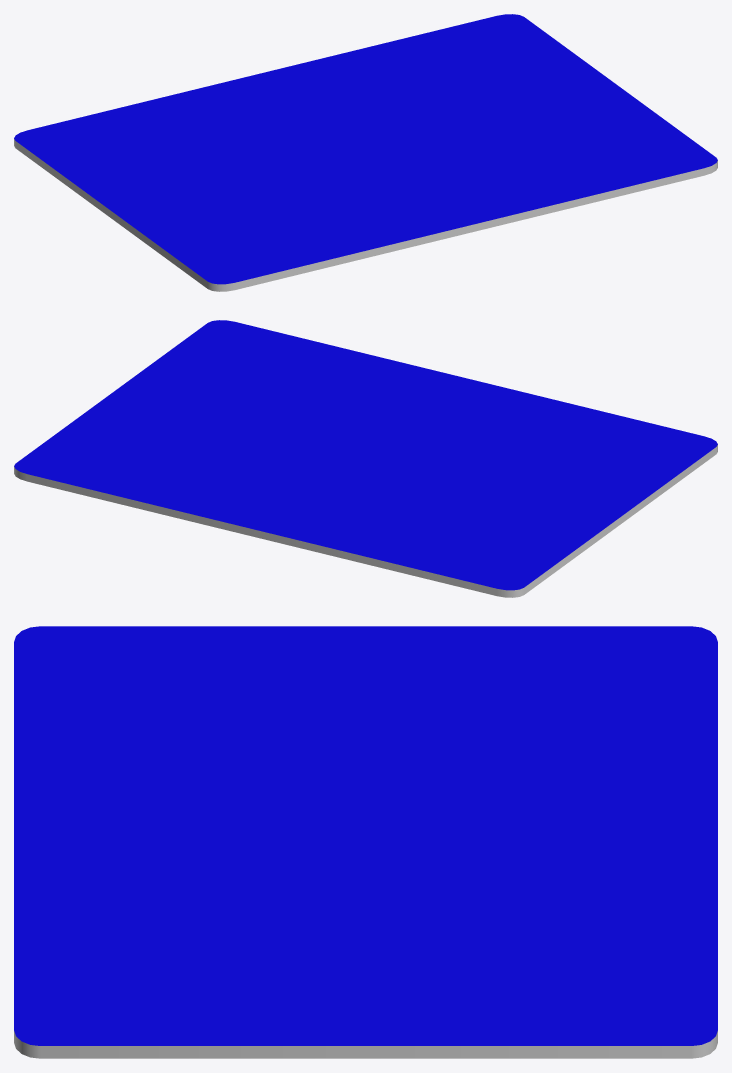
File: Card.fbx
3 views of the same model, one above another, from view 1: azimuth 30°, elevation 25°; view 2: azimuth 150°, elevation 25°; view 3: azimuth 270°, elevation 25° (orthographic). The views are drawn at different scales.
Parts seen in each view (by area): view 1: Cube; view 2: Cube; view 3: Cube.
Part boxes in pixels (x1,y1,x2,y2): Cube: (14,14,717,291); Cube: (14,320,717,597); Cube: (14,626,717,1058).
Bounding box in the file's own units: 8.2 × 0.1146 × 5.81.
